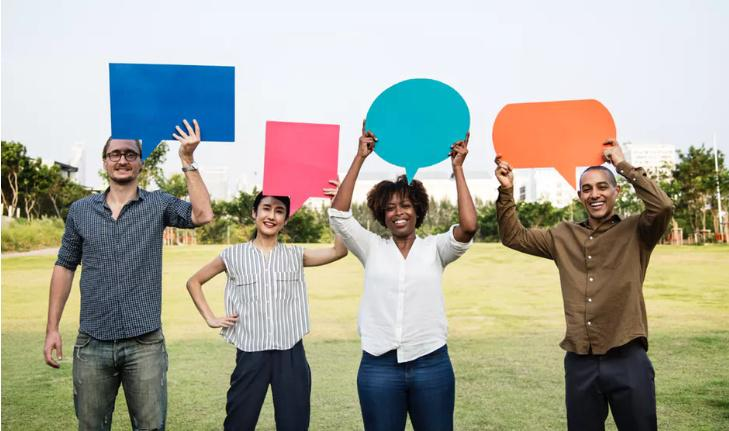face: (581, 170, 614, 217), (385, 192, 416, 237), (107, 138, 139, 180), (256, 197, 286, 236)
